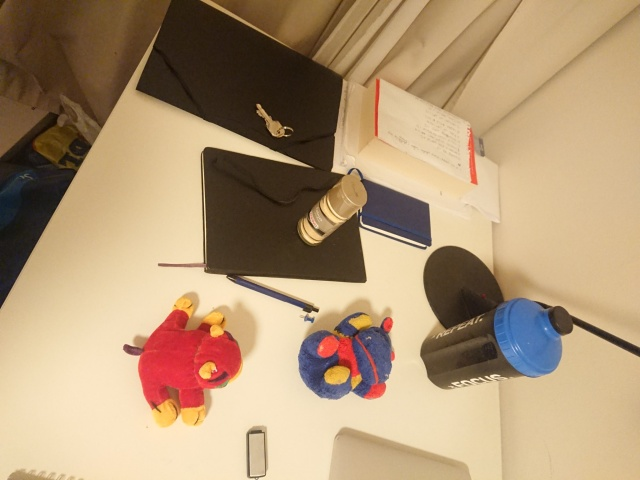Kotanyi Garlic Granules 70g: (295, 172, 369, 248)
